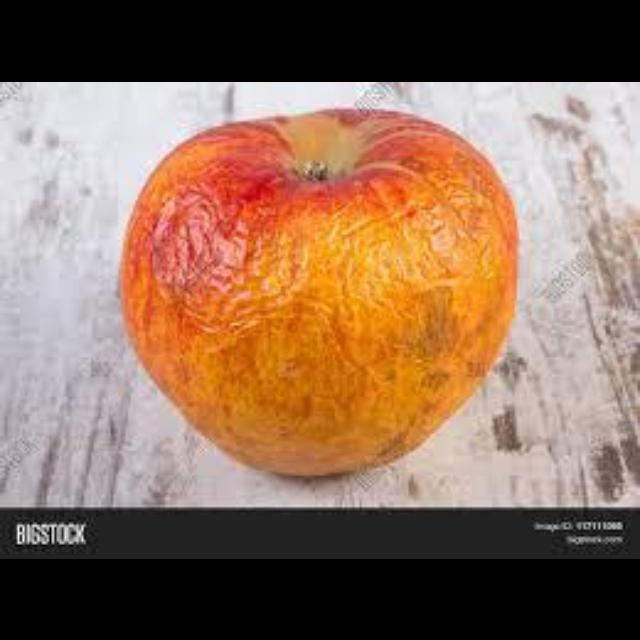apple: (121, 106, 517, 472)
